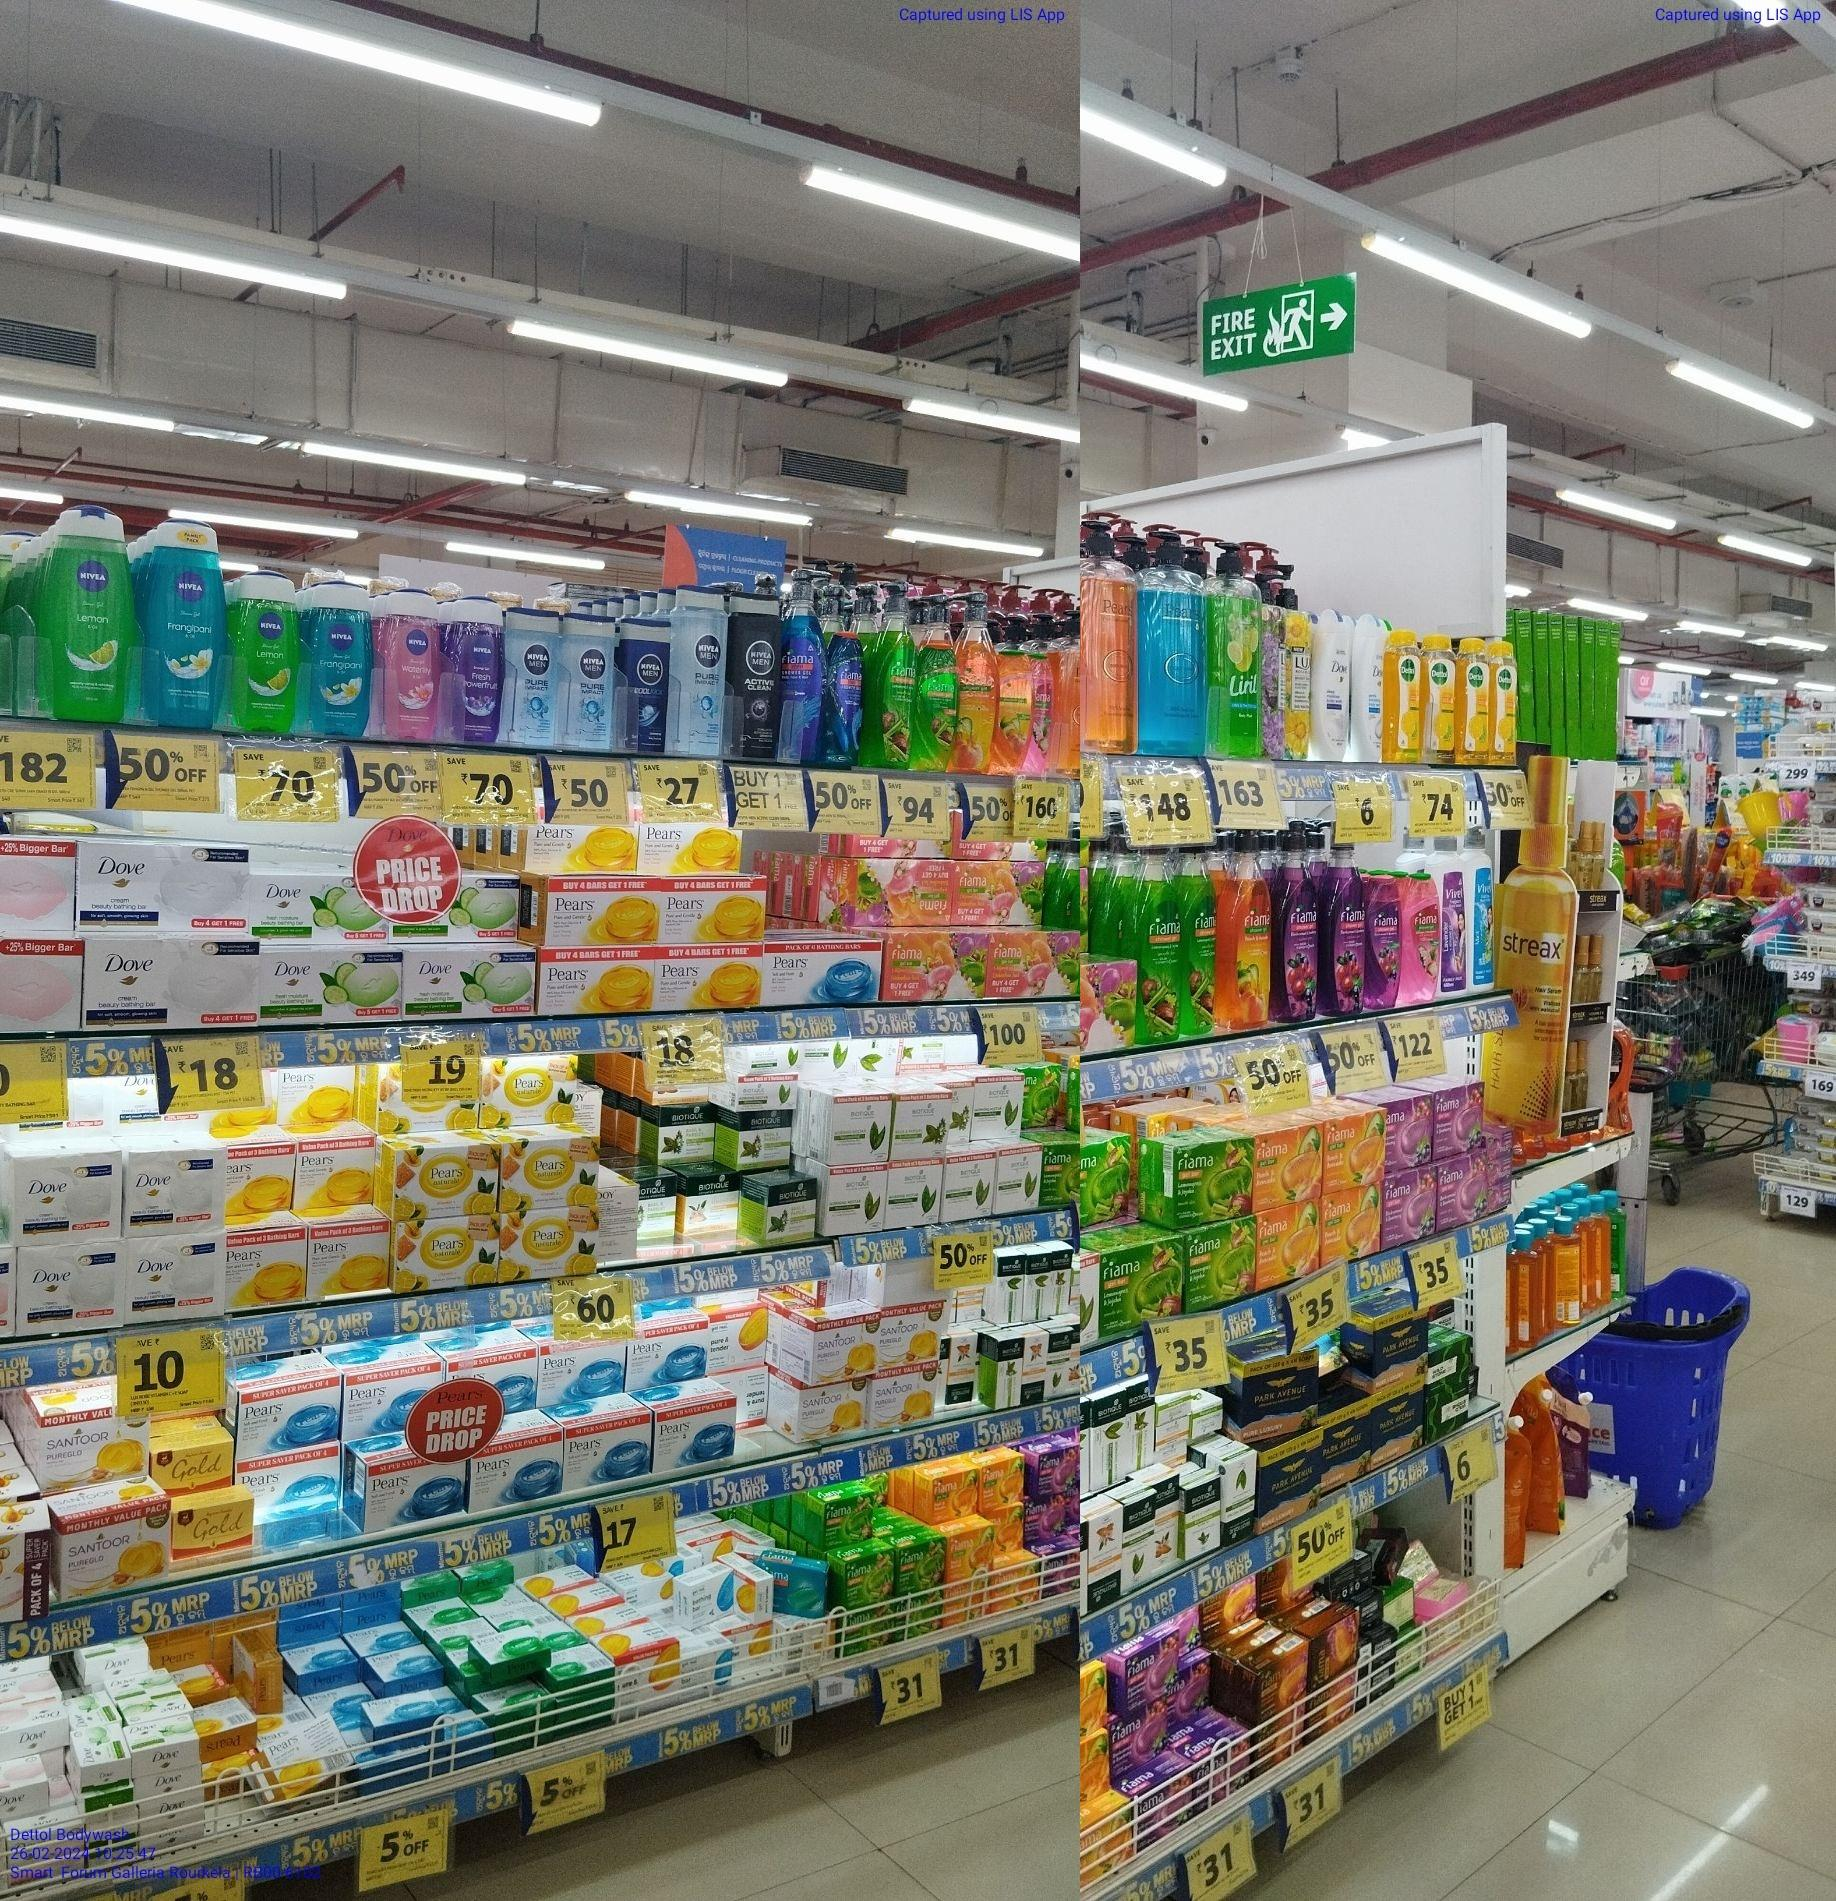Dettol_Bodywash_Refresh: (1390, 630, 1422, 762), (1424, 635, 1456, 764), (1459, 638, 1492, 764), (1495, 640, 1517, 767)
Dove_Deep_Moisture_Body_Wash_250ML: (1320, 608, 1351, 764), (1356, 614, 1383, 762)
Nivea_Shower_Gel_Frangipani_and_Oil_250ML: (143, 514, 222, 723), (312, 584, 375, 737)
Nivea_Shower_Gel_Fresh_Powerfruit_250ML: (453, 594, 497, 743)
Nivea_Shower_Gel_Lemon_and_Oil_250ML: (49, 504, 132, 720), (238, 572, 297, 732)
Nivea_Shower_Gel_Waterlily_and_Oil_250ML: (387, 591, 441, 742)
